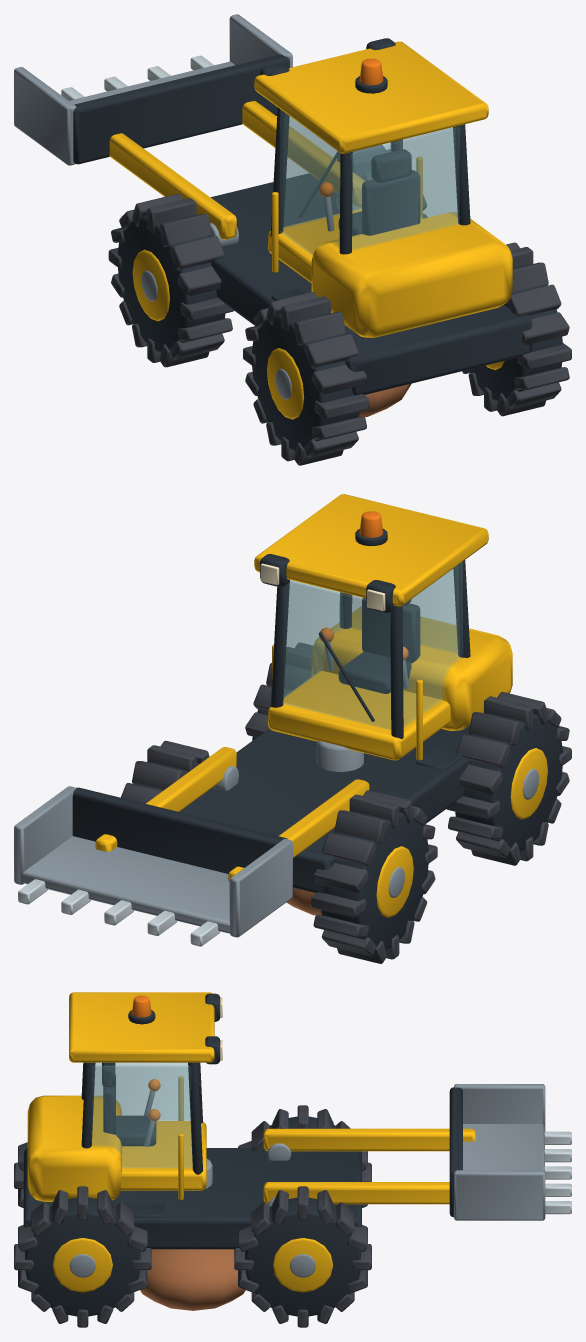
File: loader.glb
The picture shows the model from 3 angles, top to bottom: view 1: azimuth 30°, elevation 25°; view 2: azimuth 150°, elevation 25°; view 3: azimuth 270°, elevation 25°; orthographic projection. The views are drawn at different scales.
Parts seen in each view (by area): view 1: cab sill.002, chassis, side glazing.002, bucket back.001, headlight housing.004, tread block.016, tread block, tread block.048, bucket cheek.002, lift arm, tire, tire.001 (+7 smaller); view 2: cab sill.002, side glazing.002, bucket cheek.002, chassis, headlight housing.004, tread block, bucket back.001, tread block.016, tire, tire.001, lift arm, tread block.032 (+6 smaller); view 3: cab sill.002, chassis, bucket cheek.002, side glazing.002, lift arm, tire.002, tire.003, tread block.048, tread block.032, headlight housing.004, material load.002, rim.002 (+7 smaller).
Part boxes in pixels (x1,y1,x2,y2): cab sill.002: [254, 41, 512, 337]; chassis: [210, 173, 532, 395]; side glazing.002: [279, 109, 459, 255]; bucket back.001: [73, 54, 289, 164]; headlight housing.004: [260, 38, 470, 300]; tread block.016: [243, 292, 369, 465]; tread block: [108, 193, 233, 367]; tread block.048: [462, 242, 571, 416]; bucket cheek.002: [14, 14, 292, 165]; lift arm: [109, 101, 364, 239]; tire: [117, 215, 225, 352]; tire.001: [252, 313, 359, 450]; cab sill.002: [254, 494, 512, 760]; side glazing.002: [283, 562, 462, 729]; bucket cheek.002: [14, 786, 292, 937]; chassis: [179, 725, 469, 893]; headlight housing.004: [260, 554, 470, 770]; tread block: [311, 790, 437, 963]; bucket back.001: [72, 787, 287, 873]; tread block.016: [446, 692, 571, 865]; tire: [321, 811, 428, 948]; tire.001: [455, 713, 562, 850]; lift arm: [95, 747, 369, 881]; tread block.032: [121, 740, 209, 803]; cab sill.002: [27, 992, 214, 1201]; chassis: [23, 1148, 361, 1249]; bucket cheek.002: [454, 1084, 545, 1220]; side glazing.002: [92, 1063, 192, 1167]; lift arm: [263, 1128, 475, 1204]; tire.002: [245, 1197, 360, 1316]; tire.003: [25, 1197, 140, 1316]; tread block.048: [14, 1186, 151, 1327]; tread block.032: [234, 1186, 371, 1327]; headlight housing.004: [81, 993, 220, 1217]; material load.002: [140, 1249, 245, 1310]; rim.002: [273, 1238, 332, 1292].
Bounding box in the file's own units: 3 × 4.25 × 7.1.
